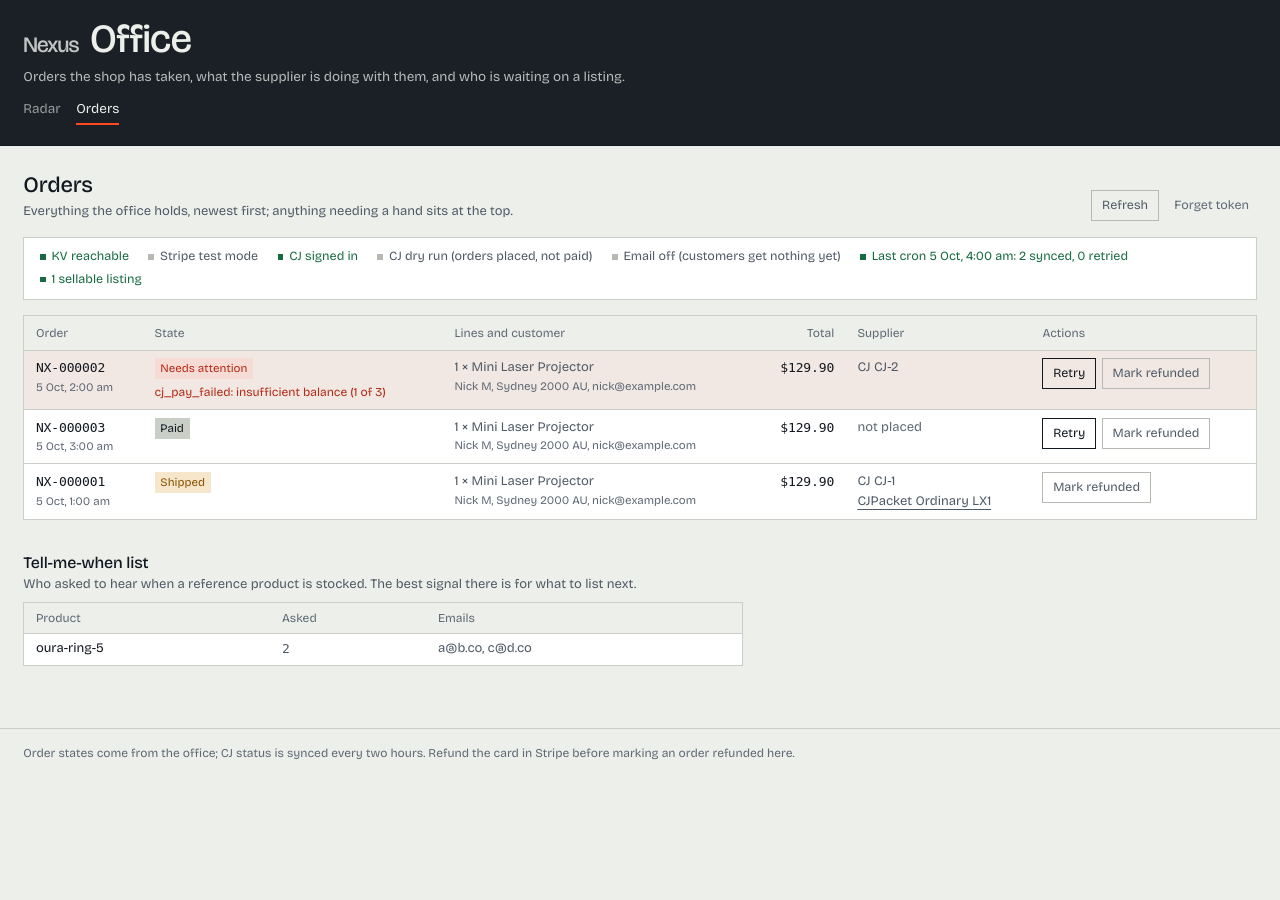
Test: Radar orders tab › Retry posts to the retry endpoint and refreshes
Click the button "Retry" in the row of "NX-000002": (1069, 374) [1042,358,1096,389]
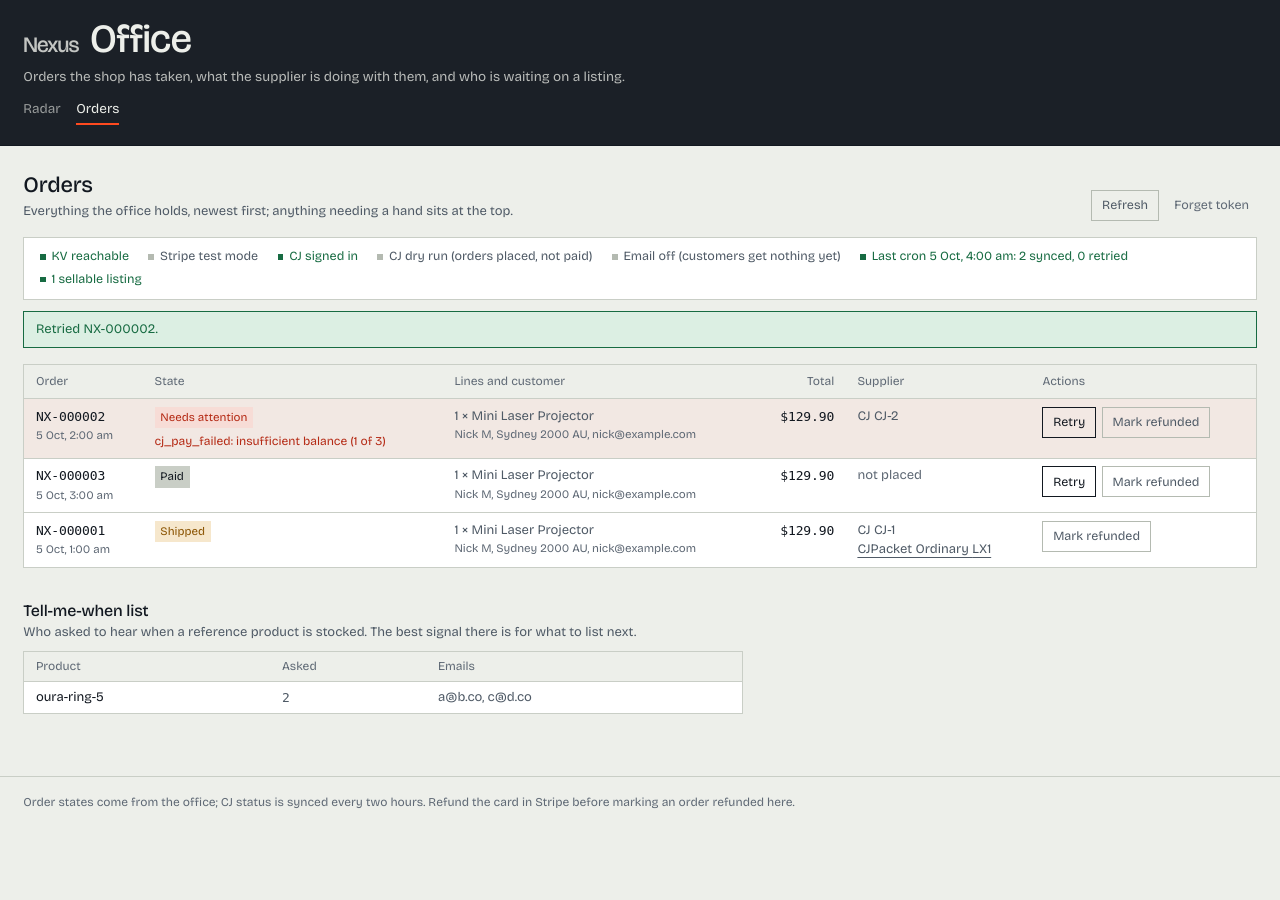
Expected: the text "Retried NX-000002." is shown, [23,311,1257,348]
